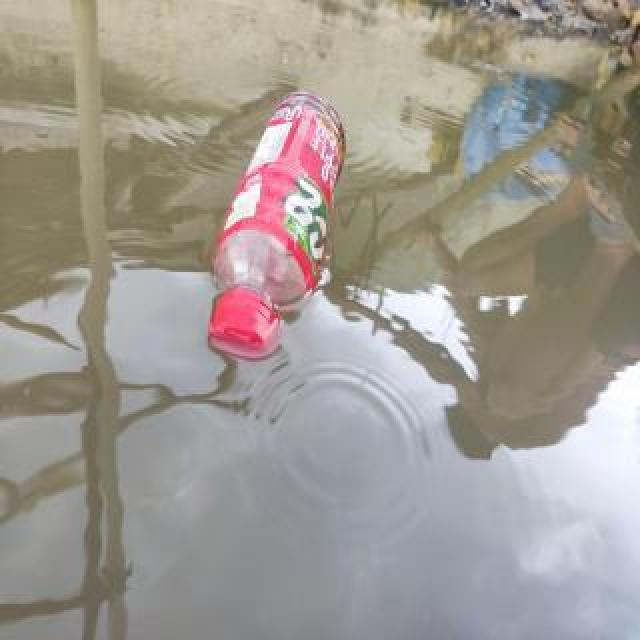bottle: (215, 81, 365, 363)
